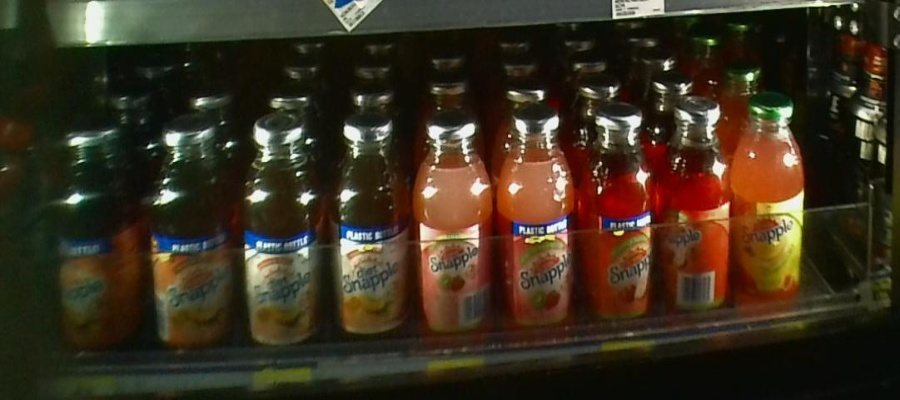bottle: (47, 113, 142, 377), (143, 113, 233, 376), (236, 105, 319, 369), (410, 116, 494, 362), (324, 108, 405, 363), (496, 103, 579, 349), (579, 90, 658, 341), (659, 85, 732, 324), (736, 86, 807, 310)
